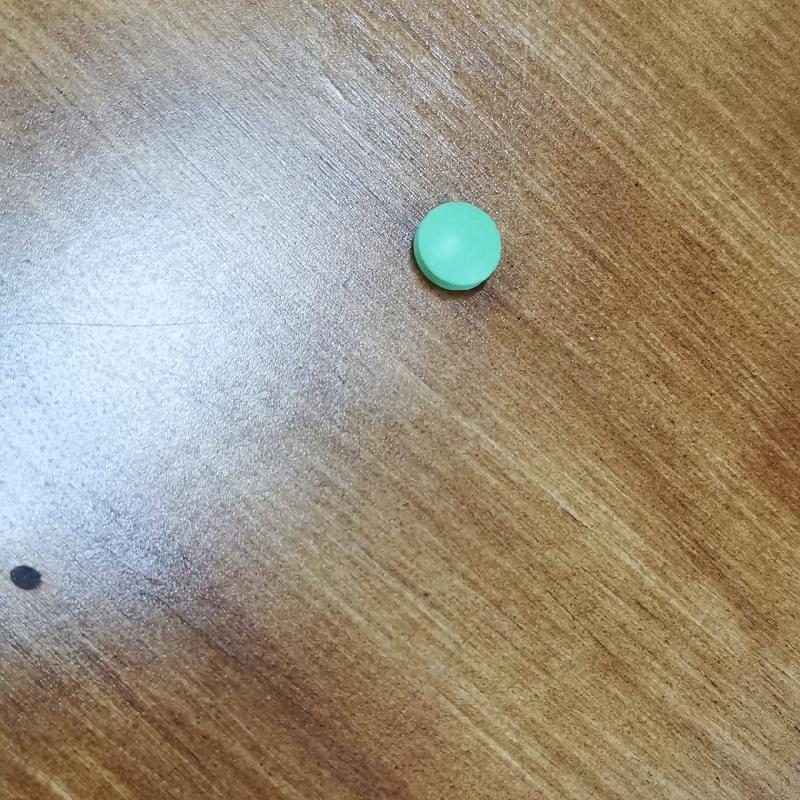pills: (406, 195, 510, 318)
